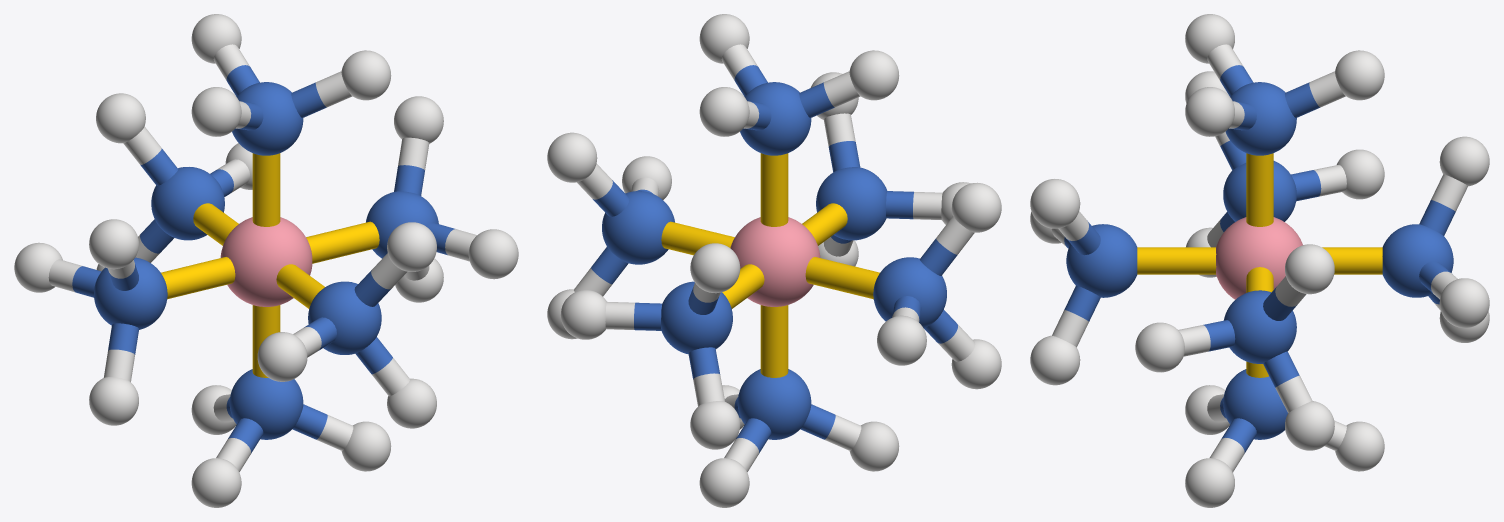
Rendered from peihewulilun2.FBX.
3 renders of one model, left to right at view 1: azimuth 30°, elevation 25°; view 2: azimuth 150°, elevation 25°; view 3: azimuth 270°, elevation 25°, orthographic.
Parts seen in each view (by area): view 1: Sphere002; view 2: Sphere002; view 3: Sphere002.
Part boxes in pixels (<box>): Sphere002: <box>14,14,518,507</box>; Sphere002: <box>547,14,1001,507</box>; Sphere002: <box>1030,14,1489,507</box>.
Bounding box in the file's own units: 49.83 × 49.83 × 49.83.
